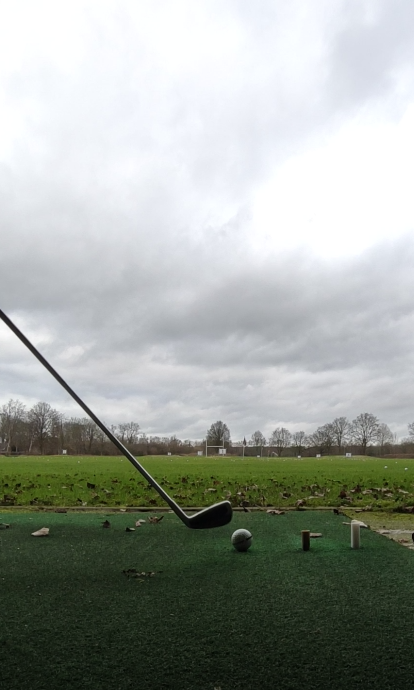golfball: (230, 527, 253, 552)
